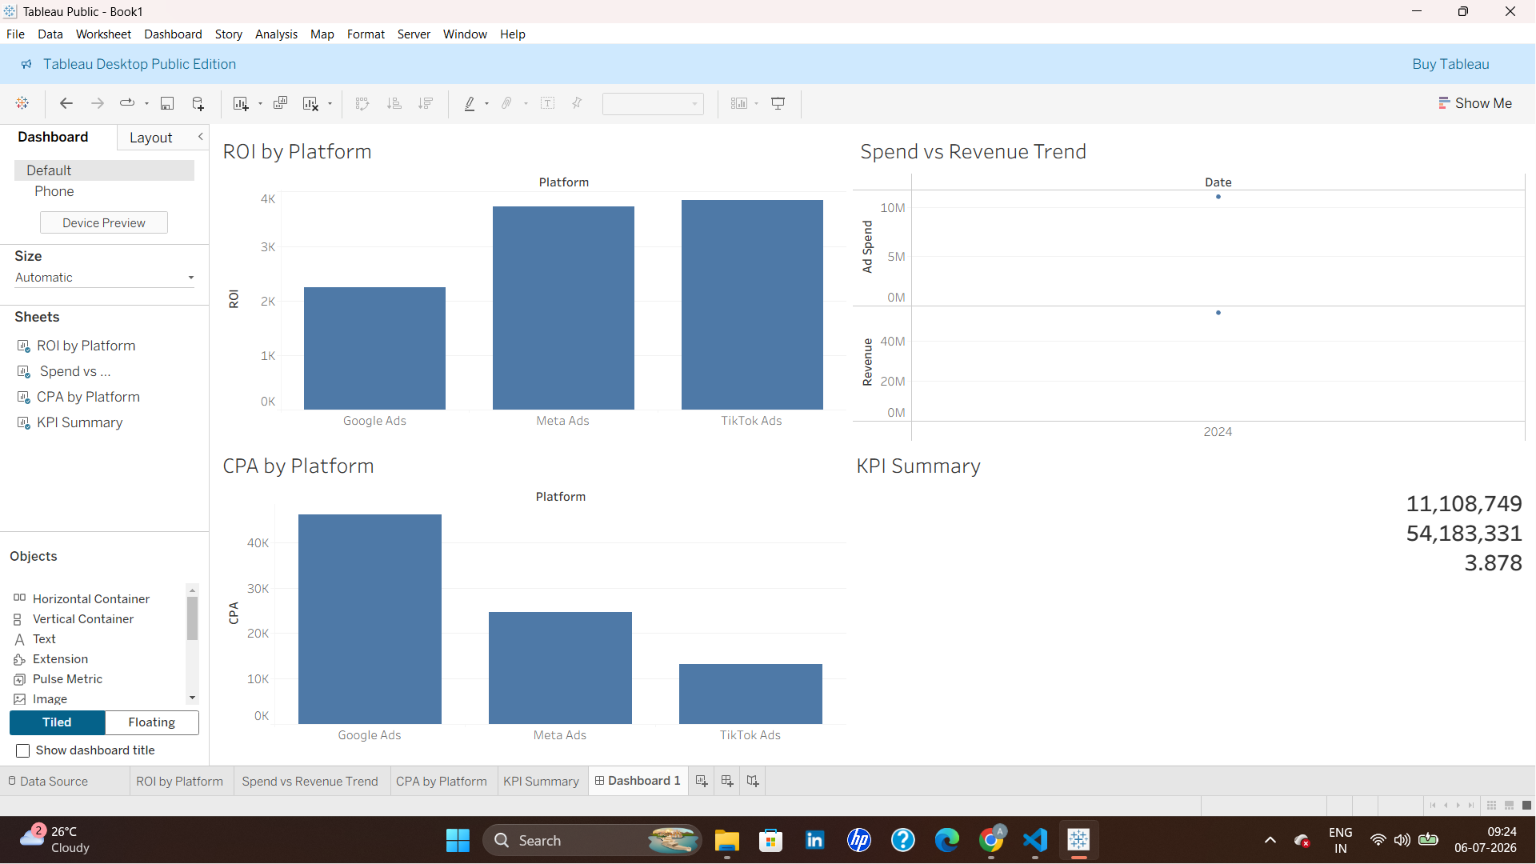

The dashboard page shown, as its layout file describes it:
{"tool":"tableau","page":{"name":"Dashboard 1","canvas":[1000,1000],"units":"permille","ordinal":0},"visuals":[{"type":"worksheet","title":"ROI by Platform","mark":"Bar","rows":["ROI"],"cols":["platform"],"box":[4.8,10,478,490]},{"type":"worksheet","title":" Spend vs Revenue Trend","mark":"Line","rows":["ad_spend","revenue"],"cols":["date"],"box":[482.8,10,512.4,490]},{"type":"worksheet","title":"CPA by Platform","mark":"Automatic","rows":["CPA"],"cols":["platform"],"box":[4.8,500,478,490]},{"type":"worksheet","title":"KPI Summary","mark":"Automatic","box":[482.8,500,512.4,490]}]}

Visuals, with their boxes on the dashboard's canvas, which has no fixed pixel size, in thousandths of its width and height (x1, y1, x2, y2). These are canvas units, not pixel positions in the 1536x864 screenshot, which may show the page scaled, cropped or inside an application window:
"ROI by Platform" worksheet (Bar marks): crop(5, 10, 483, 500)
" Spend vs Revenue Trend" worksheet (Line marks): crop(483, 10, 995, 500)
"CPA by Platform" worksheet: crop(5, 500, 483, 990)
"KPI Summary" worksheet: crop(483, 500, 995, 990)
